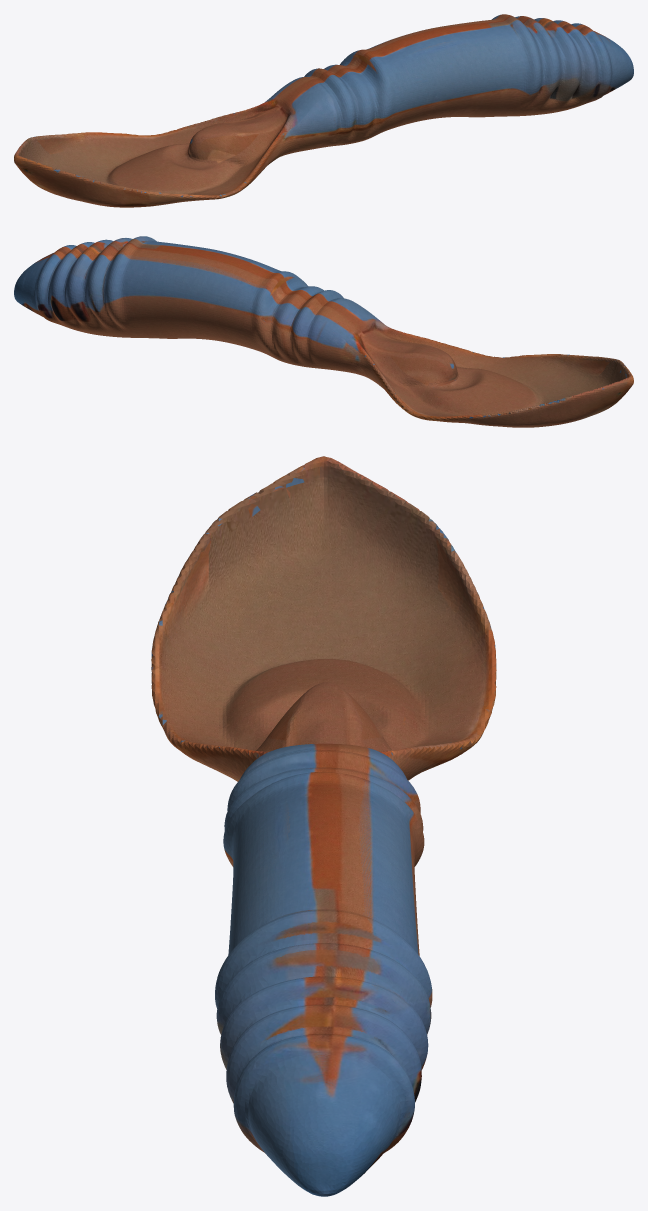
Rendered from image_0001_segmented.glb.
3 views of the same model, one above another, from view 1: azimuth 30°, elevation 25°; view 2: azimuth 150°, elevation 25°; view 3: azimuth 270°, elevation 25° (orthographic). The views are drawn at different scales.
Parts seen in each view (by area): view 1: tmpqrb4_df2.ply; view 2: tmpqrb4_df2.ply; view 3: tmpqrb4_df2.ply.
Boxes of the visible parts, x1,y1,x2,y2 form: tmpqrb4_df2.ply: [14, 14, 633, 207]; tmpqrb4_df2.ply: [14, 236, 633, 427]; tmpqrb4_df2.ply: [151, 456, 496, 1196].
Bounding box in the file's own units: 1.99 × 0.3186 × 0.4834.
Materials: 1 (1 with a texture image).
